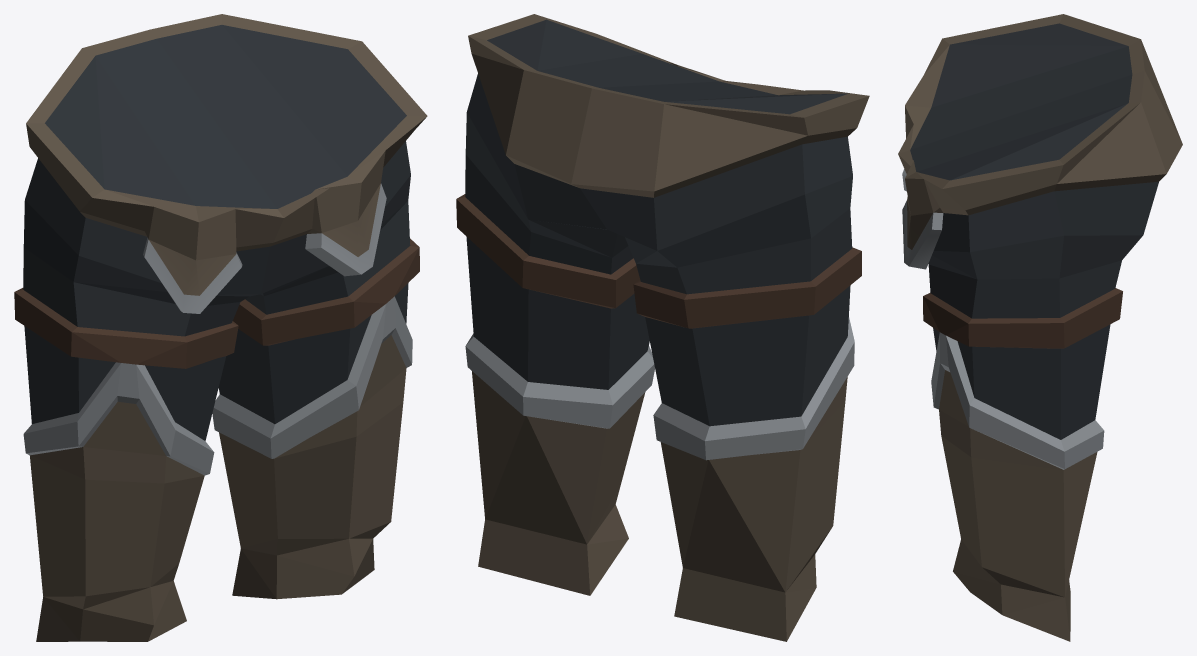
The model's file is Chr_Hips_Female_13_Static.fbx.
The picture shows the model from 3 angles, left to right: view 1: azimuth 30°, elevation 25°; view 2: azimuth 150°, elevation 25°; view 3: azimuth 270°, elevation 25°; orthographic projection. The views are drawn at different scales.
Parts seen in each view (by area): view 1: Chr_Hips_Female_13_Static; view 2: Chr_Hips_Female_13_Static; view 3: Chr_Hips_Female_13_Static.
Boxes of the visible parts, <box> form: Chr_Hips_Female_13_Static: <box>14,14,427,641</box>; Chr_Hips_Female_13_Static: <box>456,14,869,641</box>; Chr_Hips_Female_13_Static: <box>898,14,1182,641</box>.
Bounding box in the file's own units: 0.3991 × 0.5806 × 0.2977.
